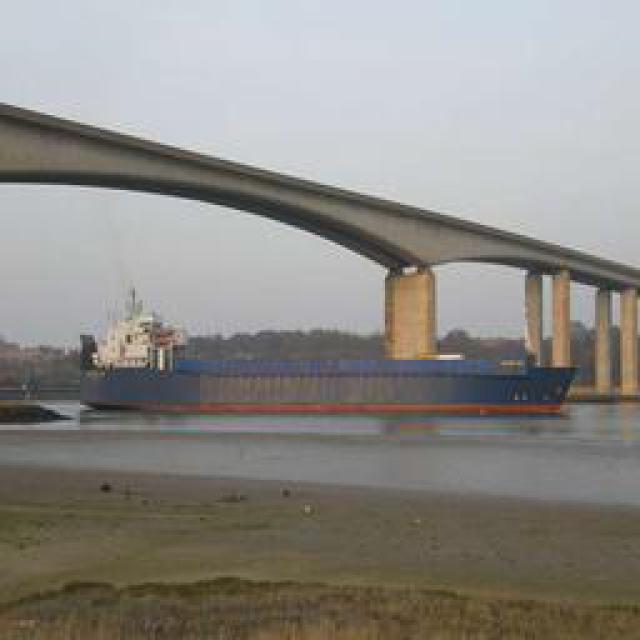Ship: (81, 296, 201, 409)
